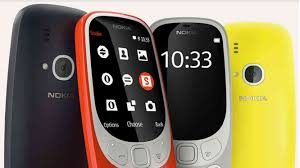nokia: (70, 7, 177, 168), (1, 4, 87, 168), (146, 13, 234, 167), (228, 17, 298, 168)
